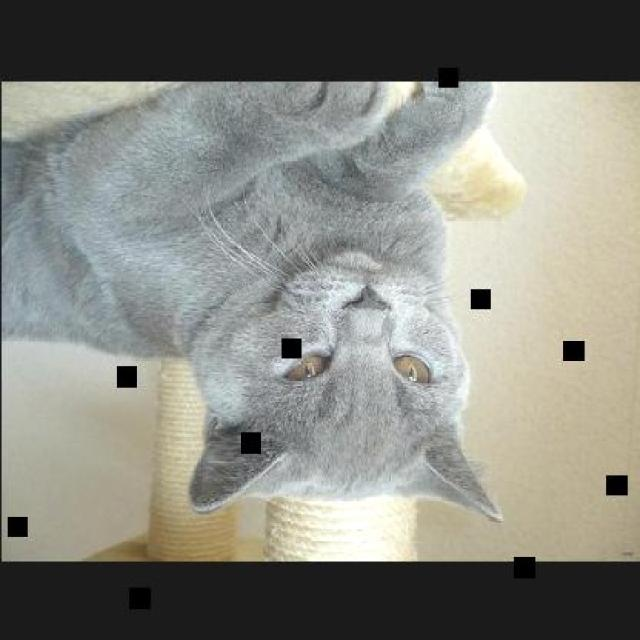unauthorized: (0, 79, 525, 522)
